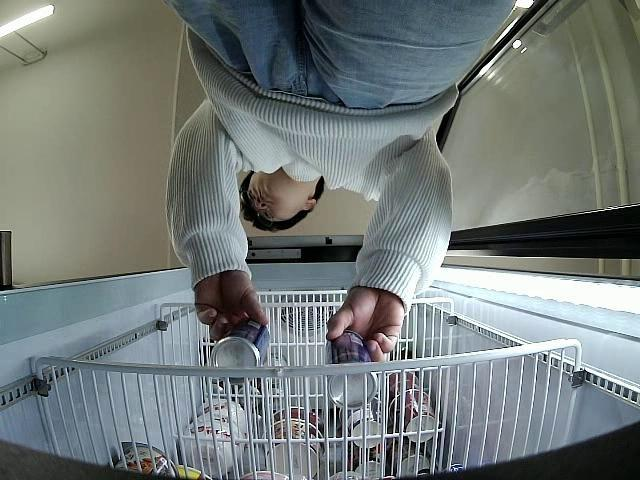16_hot6: (324, 330, 376, 412), (208, 317, 271, 383)
